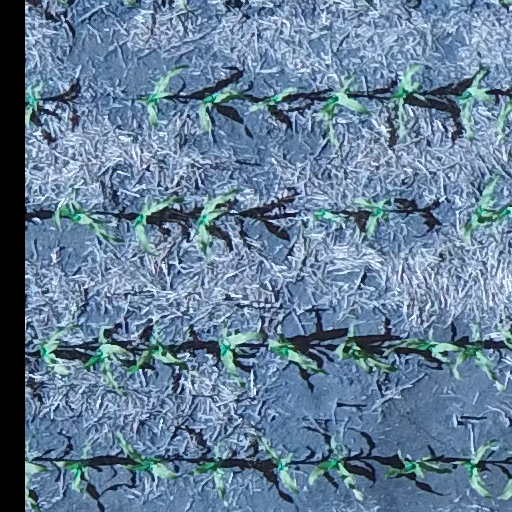planta: (78, 323, 135, 398), (331, 318, 400, 377), (316, 72, 369, 147), (128, 190, 185, 258), (191, 186, 239, 264), (214, 321, 269, 389), (132, 60, 186, 129), (449, 63, 496, 142), (113, 430, 180, 484), (48, 199, 123, 245), (123, 336, 199, 377), (250, 433, 300, 495), (447, 438, 497, 499), (306, 453, 365, 503), (34, 320, 83, 380), (195, 82, 250, 135), (380, 333, 469, 365), (387, 62, 424, 138), (265, 331, 326, 377), (449, 329, 498, 381), (380, 451, 453, 481), (189, 455, 229, 499), (354, 194, 391, 241), (246, 84, 300, 114), (49, 457, 89, 494), (310, 205, 350, 225)
